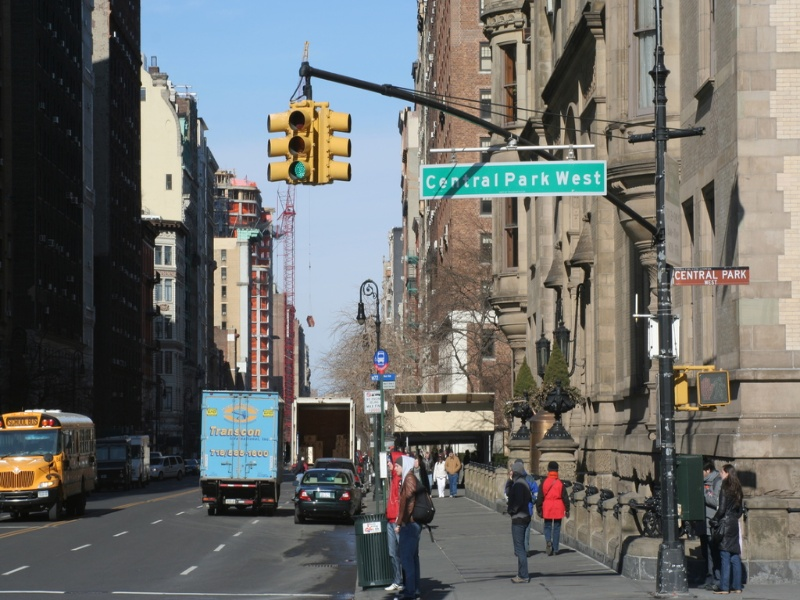green_light: (283, 153, 313, 184)
